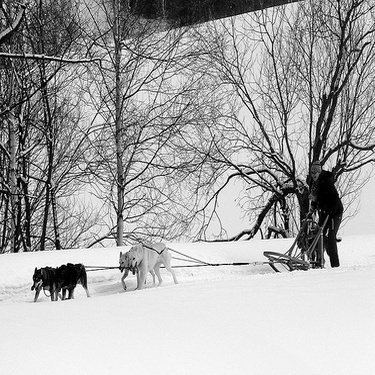dog: (106, 239, 156, 299), (41, 261, 97, 313), (127, 242, 179, 298), (24, 260, 64, 303)
